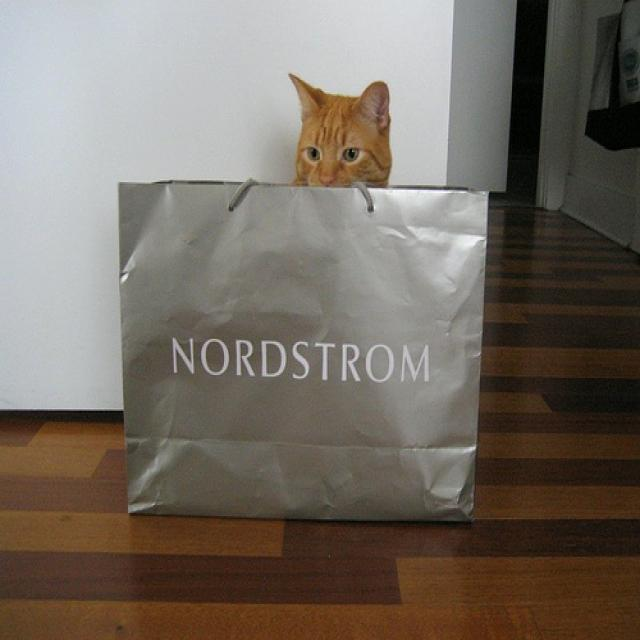cat: (288, 72, 393, 189)
